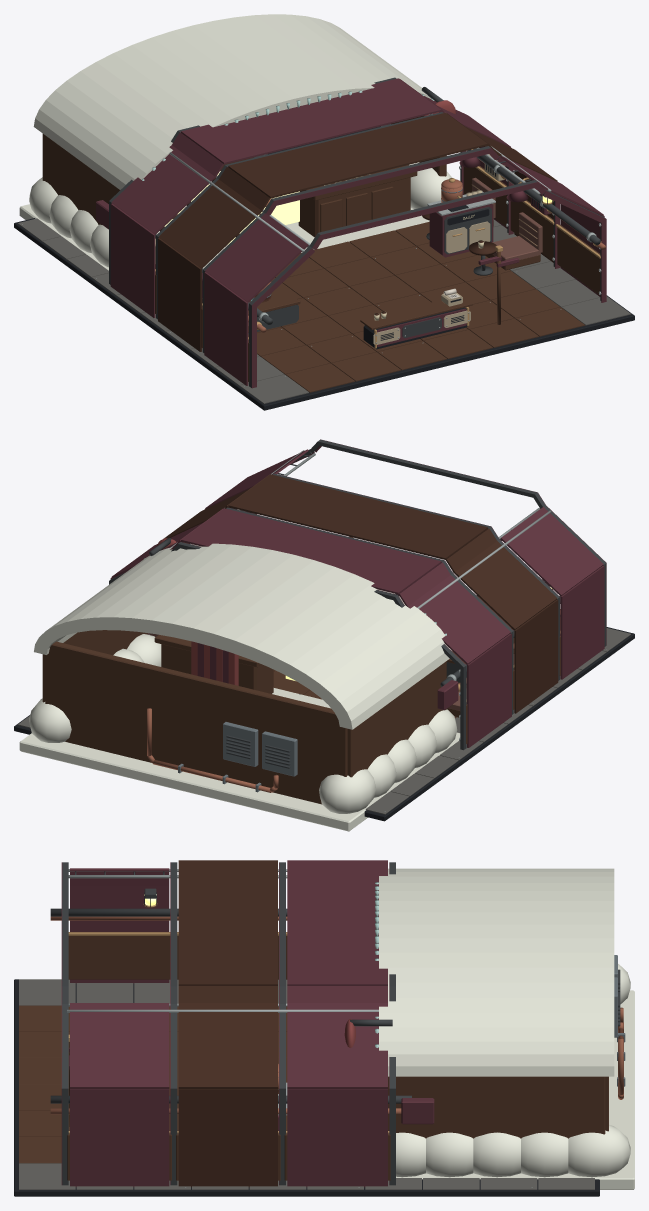
File: brrrindle-bar.glb
3 renders of one model, top to bottom at view 1: azimuth 30°, elevation 25°; view 2: azimuth 150°, elevation 25°; view 3: azimuth 270°, elevation 25°, orthographic. The views are drawn at different scales.
Visible parts, largest first — view 1: brrrindle-bar; view 2: brrrindle-bar; view 3: brrrindle-bar.
Boxes of the visible parts, x1,y1,x2,y2 form: brrrindle-bar: (14,14,634,410); brrrindle-bar: (14,439,634,831); brrrindle-bar: (14,860,634,1196).
Size of the model in its own units: 17.08 by 6.92 by 21.15.
25 materials, 22 textured.
